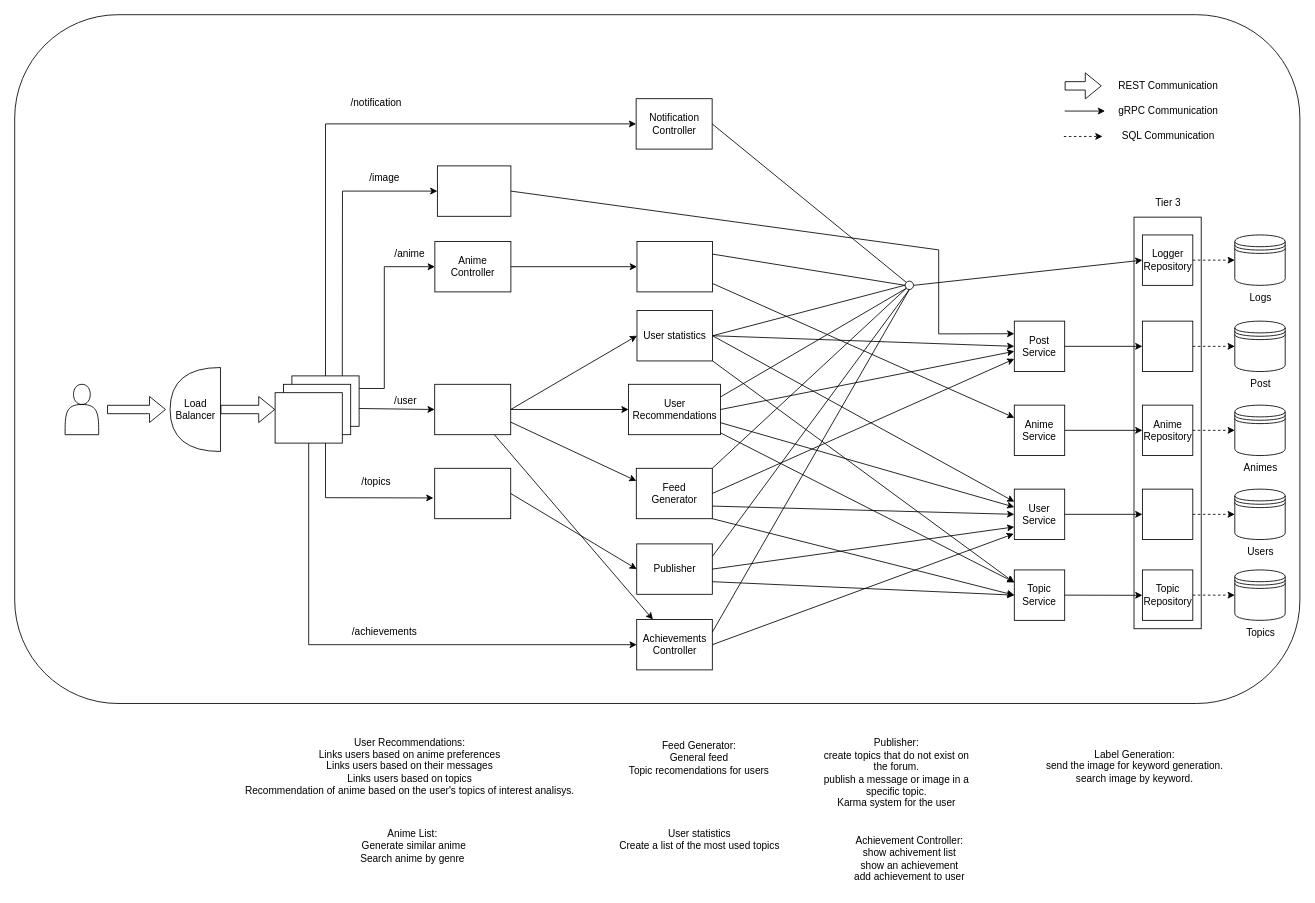
Image size: 1315x903. Some labels were removed from this diagram. Here are the shapes that lost their labels. From the top down, the box of each, then its label:
(437, 165, 511, 216): Label Generation
(636, 241, 713, 292): Anime List
(1142, 320, 1193, 372): Post Repository
(274, 392, 342, 443): Server Entrypoint
(434, 383, 511, 435): User Controller
(434, 467, 511, 519): Topic Controller
(1142, 488, 1193, 540): User Repository
